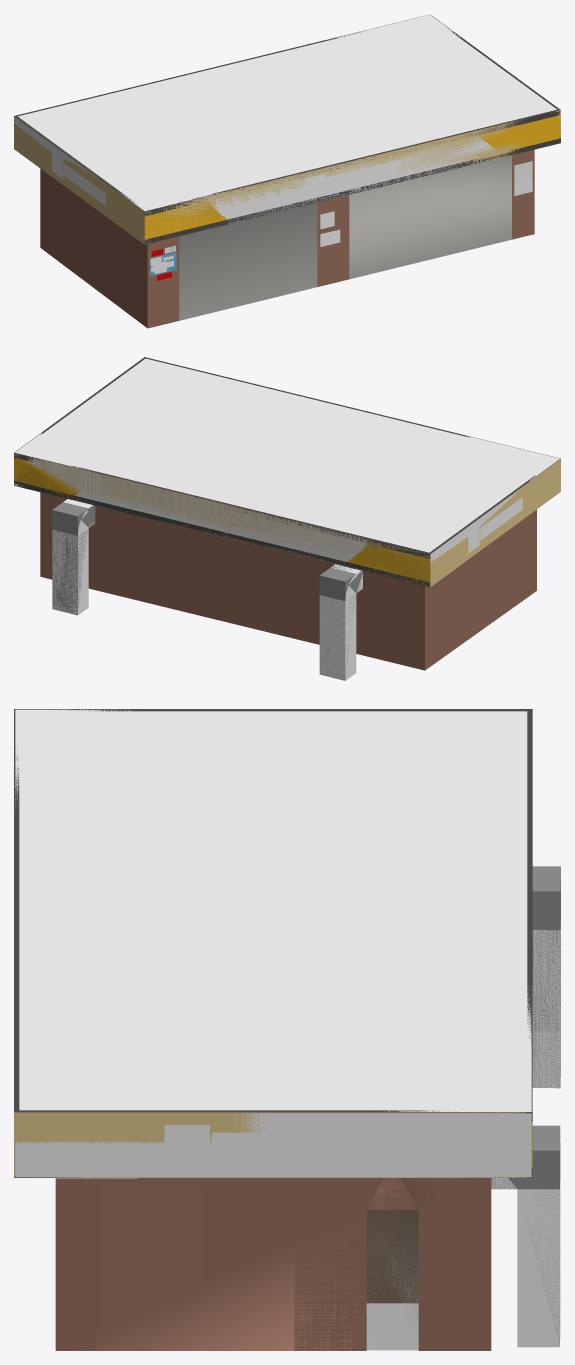
The model's file is s_fuel_main_05.dae.
3 views of the same model, one above another, from view 1: azimuth 30°, elevation 25°; view 2: azimuth 150°, elevation 25°; view 3: azimuth 270°, elevation 25° (orthographic). The views are drawn at different scales.
Visible parts, largest first — view 1: s_fuel_main_05_L1600, s_fuel_main_05_L700, s_fuel_main_05_L30, s_fuel_main_05_L150, Colmesh_s_fuel_main_05-1; view 2: s_fuel_main_05_L700, s_fuel_main_05_L1600, s_fuel_main_05_L30, Colmesh_s_fuel_main_05-1, s_fuel_main_05_L150, s_fuel_main_05_L300; view 3: s_fuel_main_05_L1600, s_fuel_main_05_L700, s_fuel_main_05_L30, Colmesh_s_fuel_main_05-1, s_fuel_main_05_L150.
Boxes of the visible parts, <box> form: s_fuel_main_05_L1600: <box>16,16,559,328</box>; s_fuel_main_05_L700: <box>14,14,560,328</box>; s_fuel_main_05_L30: <box>14,15,560,320</box>; s_fuel_main_05_L150: <box>144,137,503,244</box>; Colmesh_s_fuel_main_05-1: <box>14,15,460,239</box>; s_fuel_main_05_L700: <box>14,357,560,670</box>; s_fuel_main_05_L1600: <box>15,358,556,680</box>; s_fuel_main_05_L30: <box>14,451,560,586</box>; Colmesh_s_fuel_main_05-1: <box>14,433,559,562</box>; s_fuel_main_05_L150: <box>14,453,430,680</box>; s_fuel_main_05_L300: <box>14,453,429,592</box>; s_fuel_main_05_L1600: <box>16,710,560,1350</box>; s_fuel_main_05_L700: <box>14,709,532,1350</box>; s_fuel_main_05_L30: <box>14,1067,532,1350</box>; Colmesh_s_fuel_main_05-1: <box>15,709,531,1177</box>; s_fuel_main_05_L150: <box>14,866,560,1344</box>.
Bounding box in the file's own units: 18.4 × 10.55 × 5.93.
